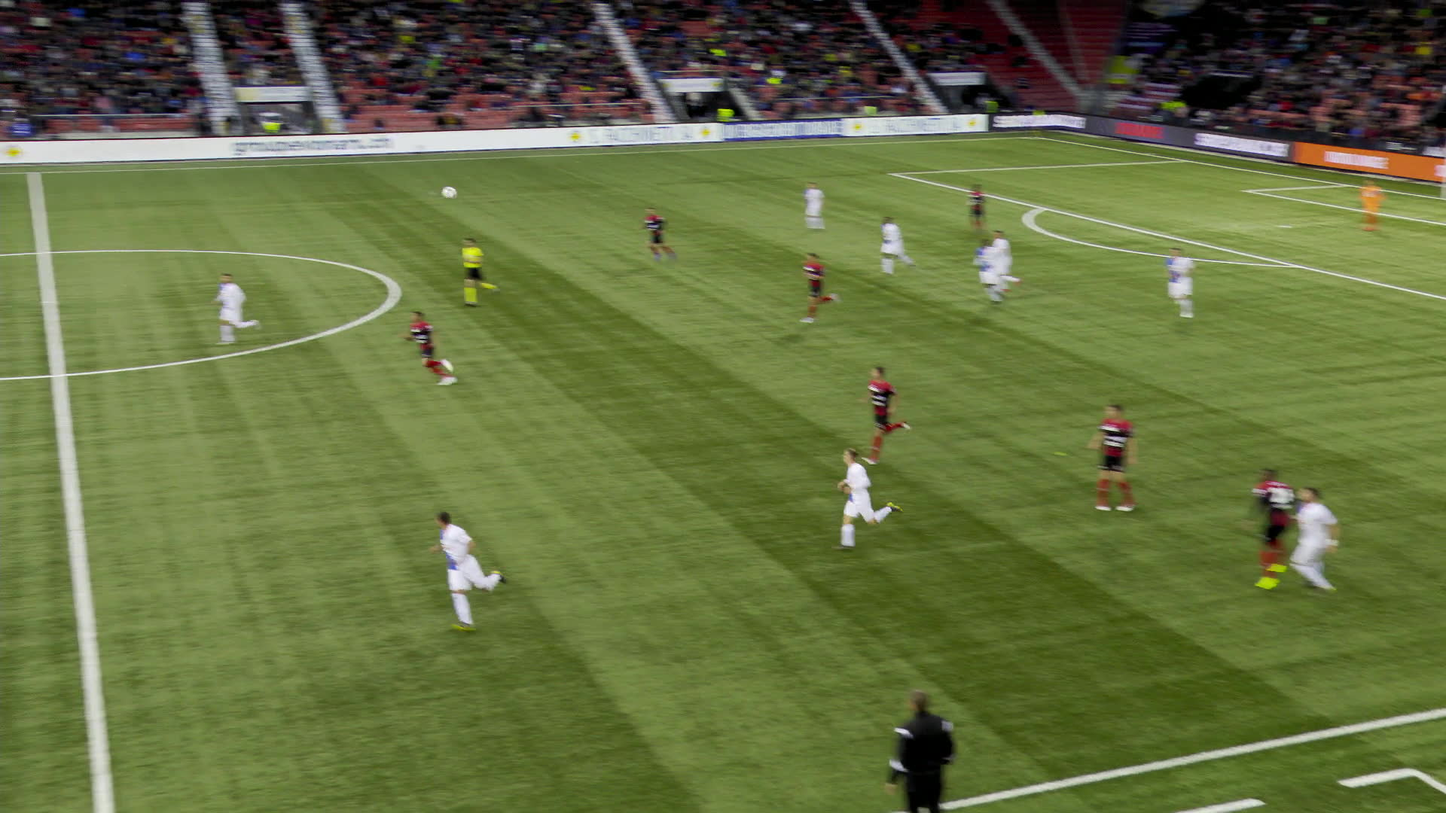ball: (442, 185, 458, 199)
player: (426, 511, 508, 633), (1239, 464, 1298, 590), (830, 450, 901, 552), (1084, 400, 1139, 512), (1288, 484, 1341, 595), (857, 362, 913, 464), (398, 310, 457, 388), (211, 270, 261, 347), (796, 250, 842, 325), (877, 214, 918, 276), (1164, 245, 1197, 320), (636, 206, 679, 263), (972, 238, 1007, 305), (993, 230, 1023, 294), (1359, 178, 1384, 233), (802, 181, 826, 234), (967, 181, 989, 232)
referee: (453, 236, 499, 306)
